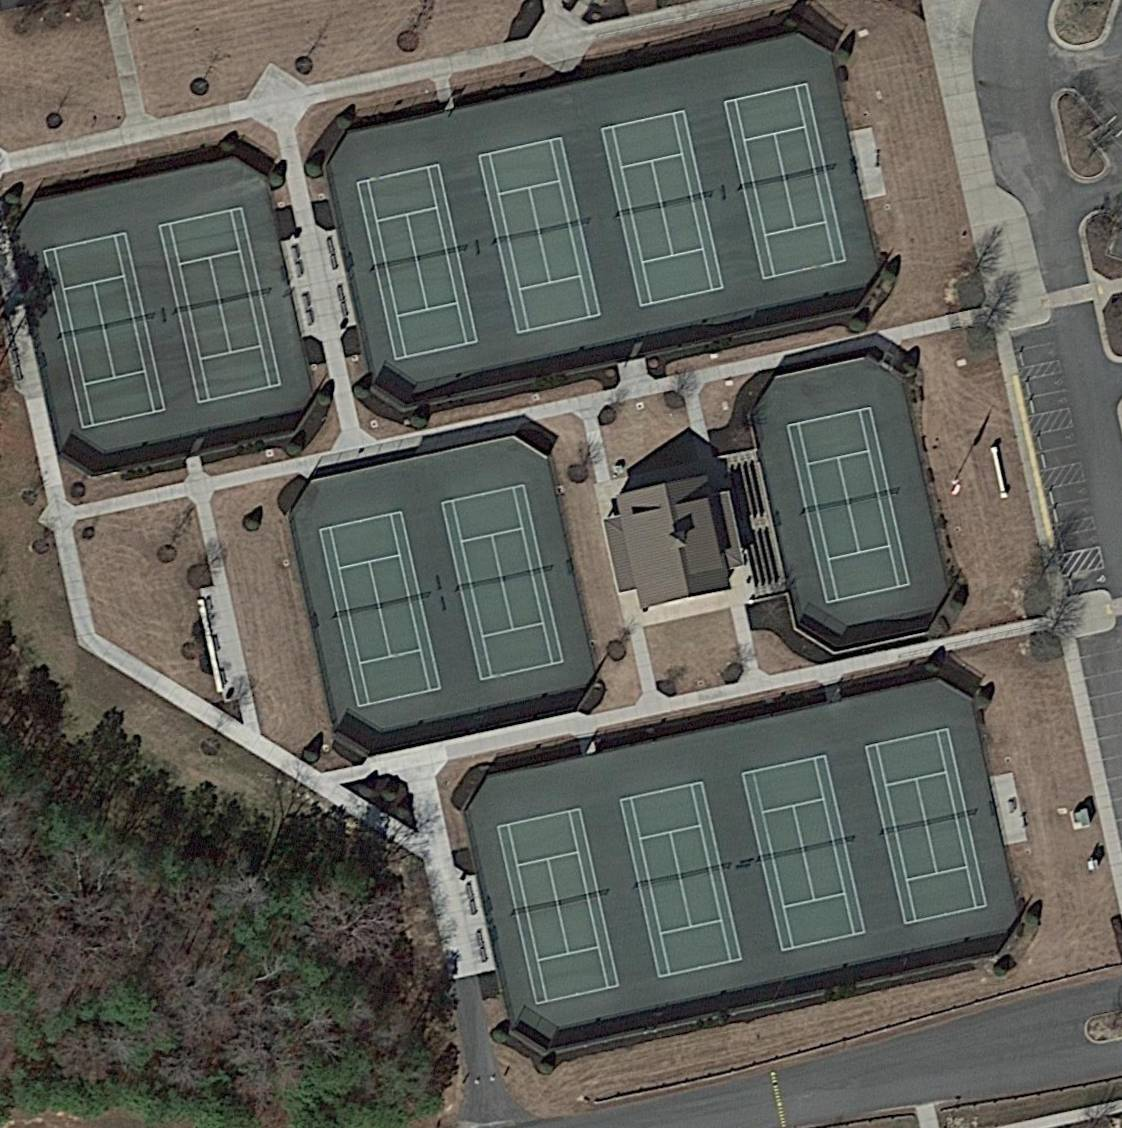tennis court: (477, 136, 603, 337), (599, 109, 725, 309), (740, 755, 867, 952), (618, 782, 743, 980), (786, 407, 911, 605), (864, 728, 989, 926), (440, 486, 565, 682), (319, 512, 444, 708), (43, 232, 166, 431), (723, 84, 848, 281), (496, 809, 620, 1006), (356, 164, 479, 362), (158, 208, 282, 405)
